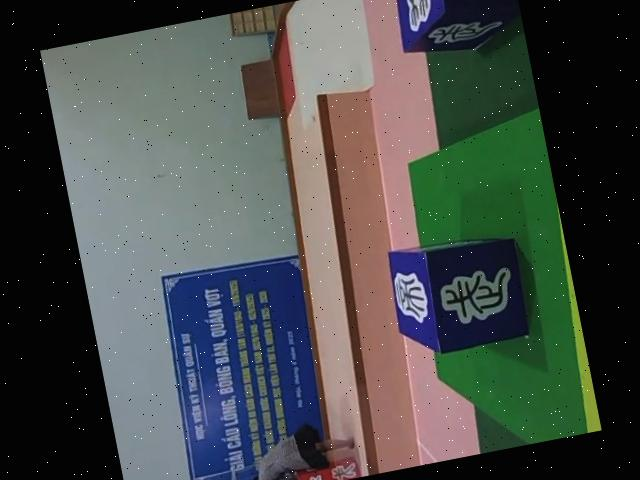R2 Fake Blue: (385, 227, 536, 362), (391, 0, 525, 58)
